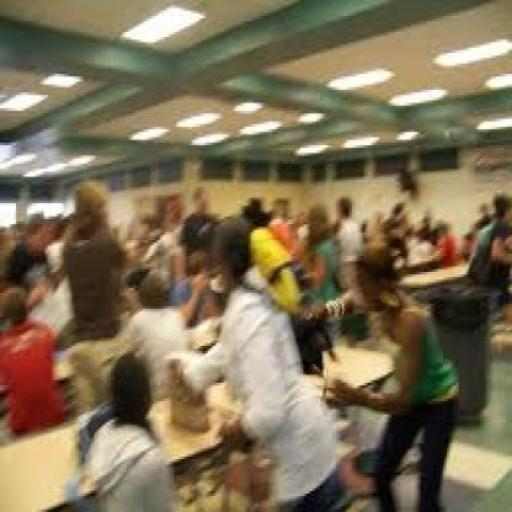Fighting: (0, 182, 465, 512)
